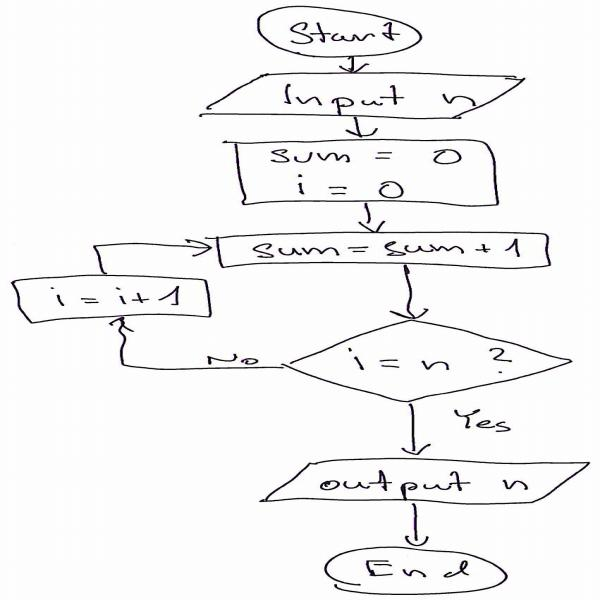arrow: (108, 321, 287, 375), (90, 236, 216, 275), (381, 266, 434, 322), (393, 404, 430, 458), (346, 199, 388, 230), (398, 502, 426, 545), (344, 115, 379, 141), (334, 55, 376, 71)
data: (195, 71, 531, 121), (261, 456, 595, 504)
decision: (285, 318, 588, 405)
process: (222, 140, 512, 209), (219, 230, 556, 268), (12, 272, 214, 322)
terminator: (313, 545, 522, 597), (247, 0, 431, 55)
text: (252, 142, 484, 199), (310, 461, 542, 502), (271, 79, 490, 120), (40, 282, 198, 319), (341, 344, 526, 375), (254, 241, 528, 259), (355, 555, 488, 590), (285, 19, 413, 48), (450, 401, 518, 441), (174, 353, 287, 370)
